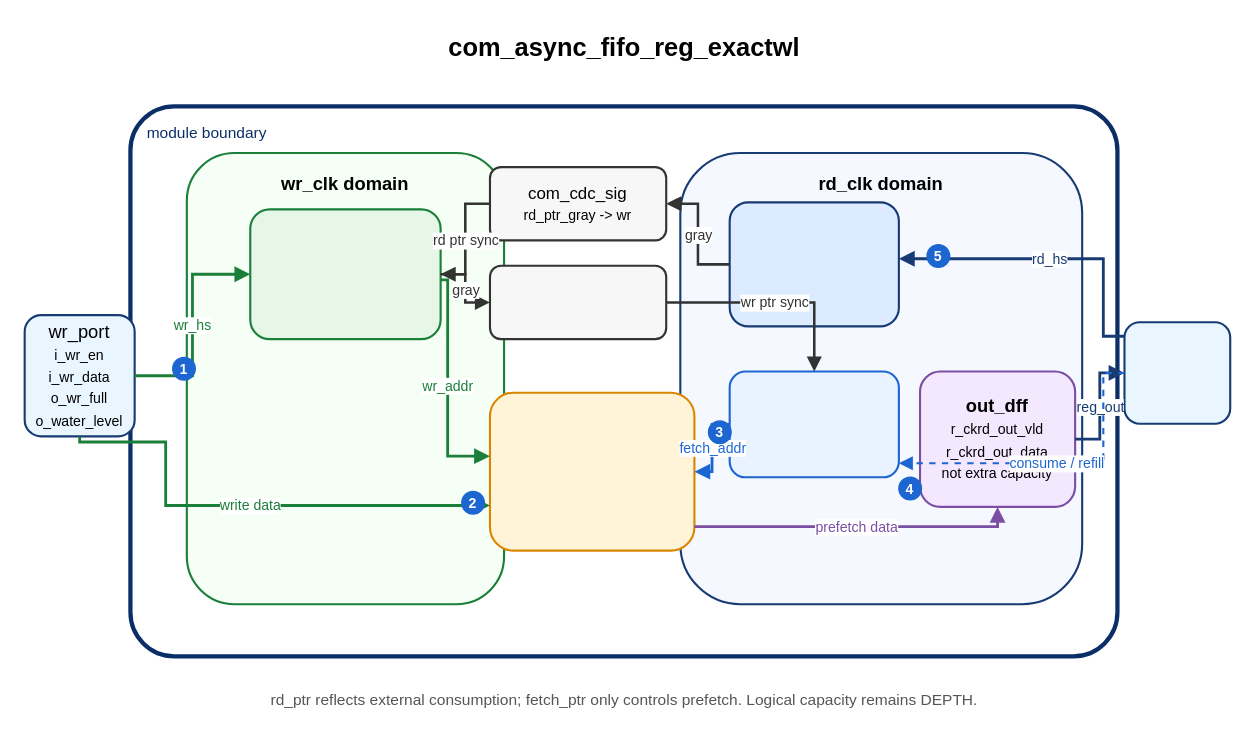
This 1256x744 diagram has some shape labels left out. The shapes that lost their labels are listed below. From the top down, each one's centre as x and y in pixels, then its label:
At [345,274]: "write ptr r_ckwr_wr_ptr F_bin2gray full / exact water level".
At [813,264]: "rd_ptr advance on rd_hs F_bin2gray release credit".
At [577,302]: "com_cdc_sig wr_ptr_gray -> rd".
At [1177,372]: "rd_port i_rd_en o_rd_data o_rd_empty".
At [813,424]: "fetch_ptr advance on prefetch array read addr".
At [591,471]: "reg array wr_clk write fetch_ptr read addr entry held until rd_hs".
